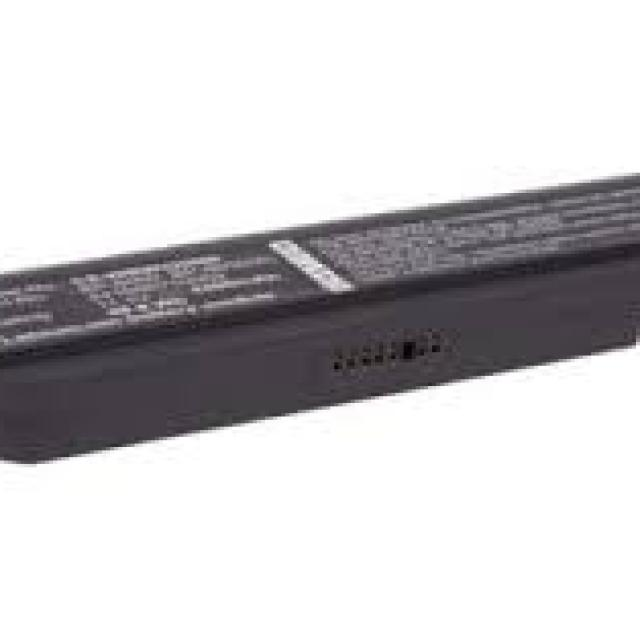organic: (1, 169, 640, 470)
